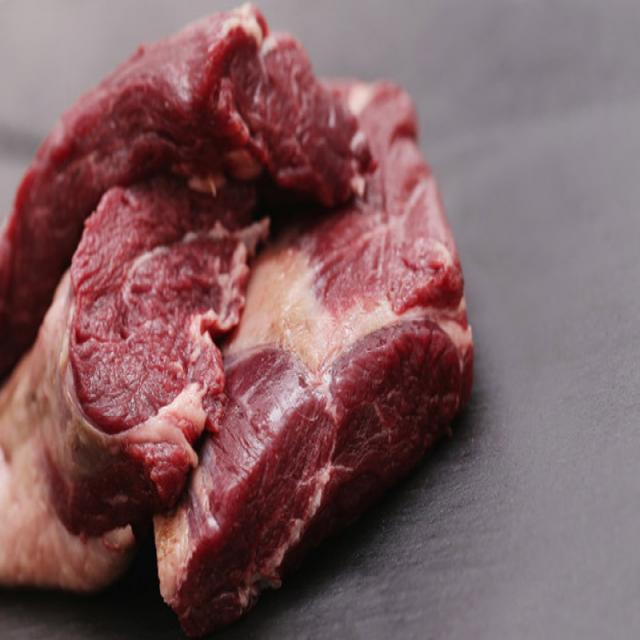beef: (0, 19, 493, 640)
